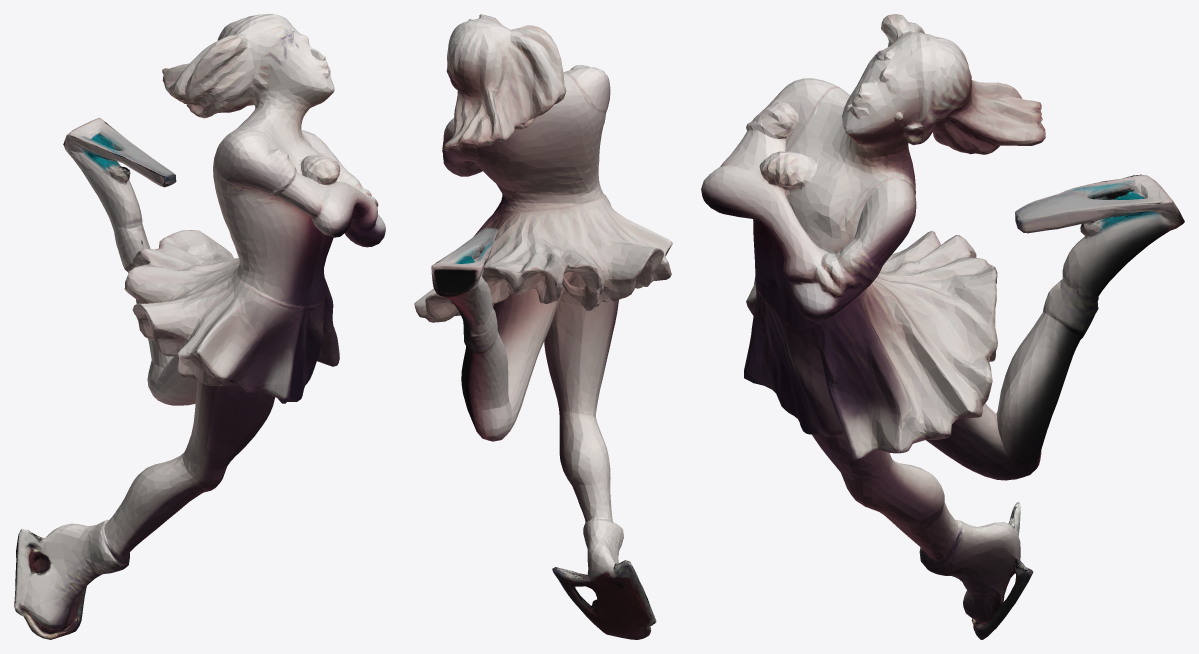
The model's file is statue.glb.
3 renders of one model, left to right at view 1: azimuth 30°, elevation 25°; view 2: azimuth 150°, elevation 25°; view 3: azimuth 270°, elevation 25°, orthographic. The views are drawn at different scales.
Parts seen in each view (by area): view 1: world; view 2: world; view 3: world.
Boxes of the visible parts, box(x1,y1,x2,y2) form: world: box(14, 14, 385, 639); world: box(414, 14, 672, 639); world: box(701, 14, 1184, 639).
Size of the model in its own units: 0.5211 by 1 by 0.6325.
1 material, 1 textured.
